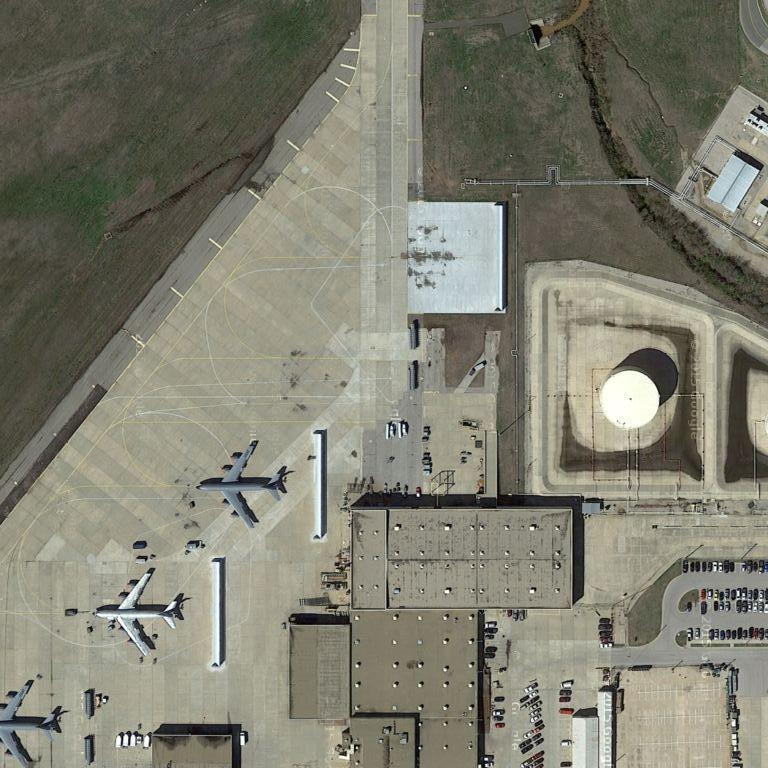E-8: (90, 563, 185, 662)
KC-135: (192, 437, 289, 534), (1, 670, 67, 767)
